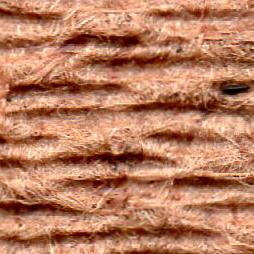egg: (222, 85, 248, 94)
